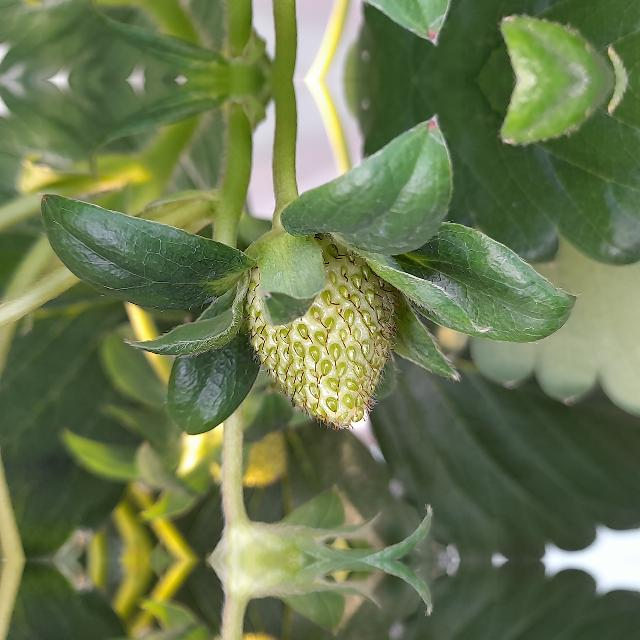Health_25: (243, 233, 401, 432)
